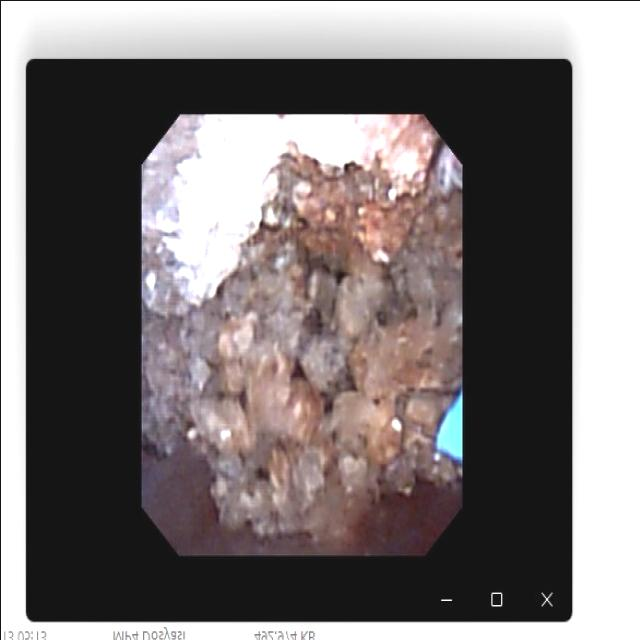stone: (143, 118, 458, 545)
